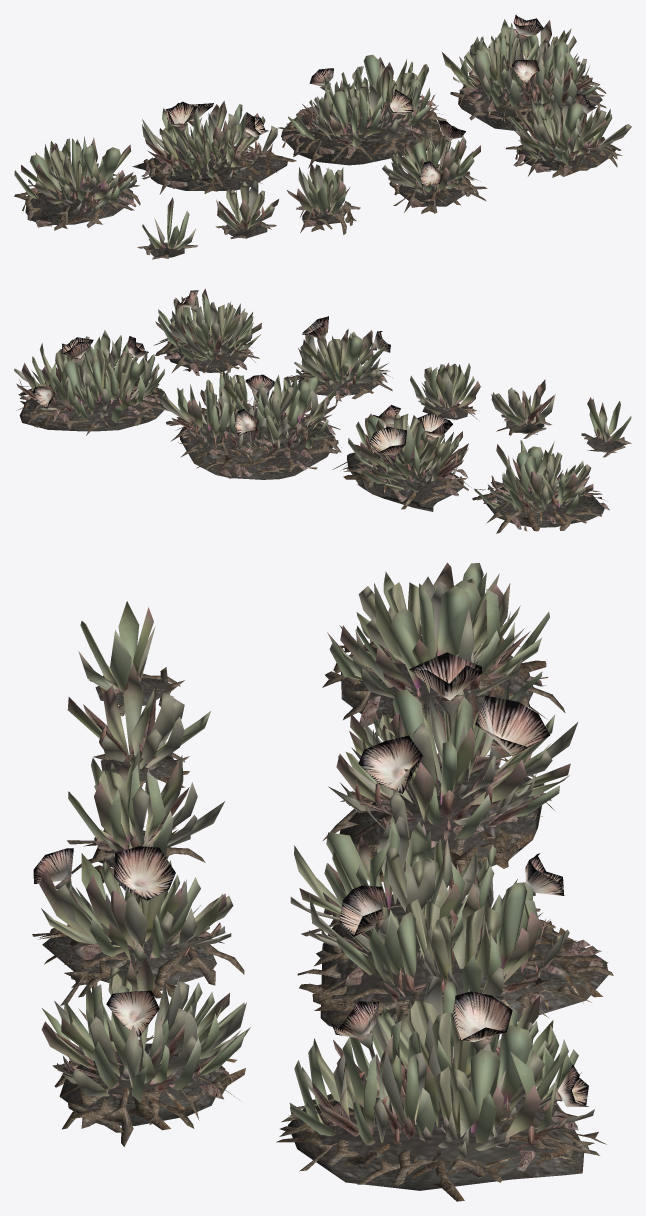
Rendered from succulent-desert.817f469b.glb.
3 renders of one model, top to bottom at view 1: azimuth 30°, elevation 25°; view 2: azimuth 150°, elevation 25°; view 3: azimuth 270°, elevation 25°, orthographic. The views are drawn at different scales.
Parts seen in each view (by area): view 1: model; view 2: model; view 3: model.
Boxes of the visible parts, box(x1,y1,x2,y2) form: model: box(14, 14, 631, 259); model: box(14, 288, 631, 533); model: box(32, 562, 613, 1201).
Bounding box in the file's own units: 2.16 × 0.2708 × 0.9586.
2 materials, 2 textured.
